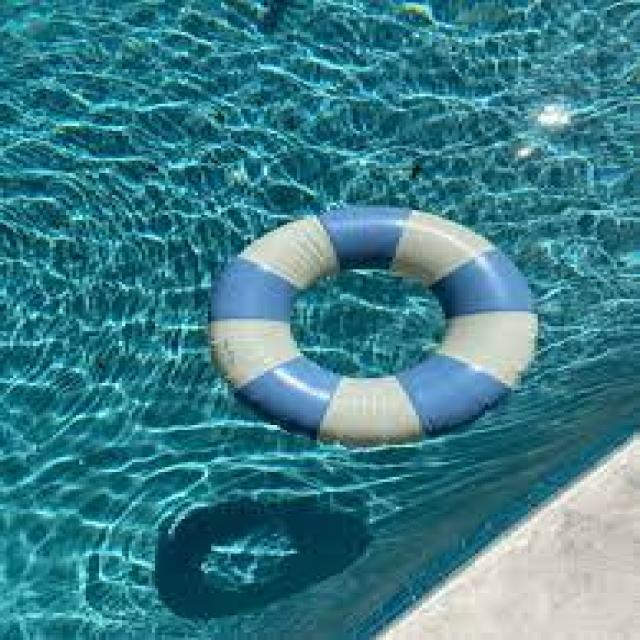lifesaver: (213, 203, 531, 448)
